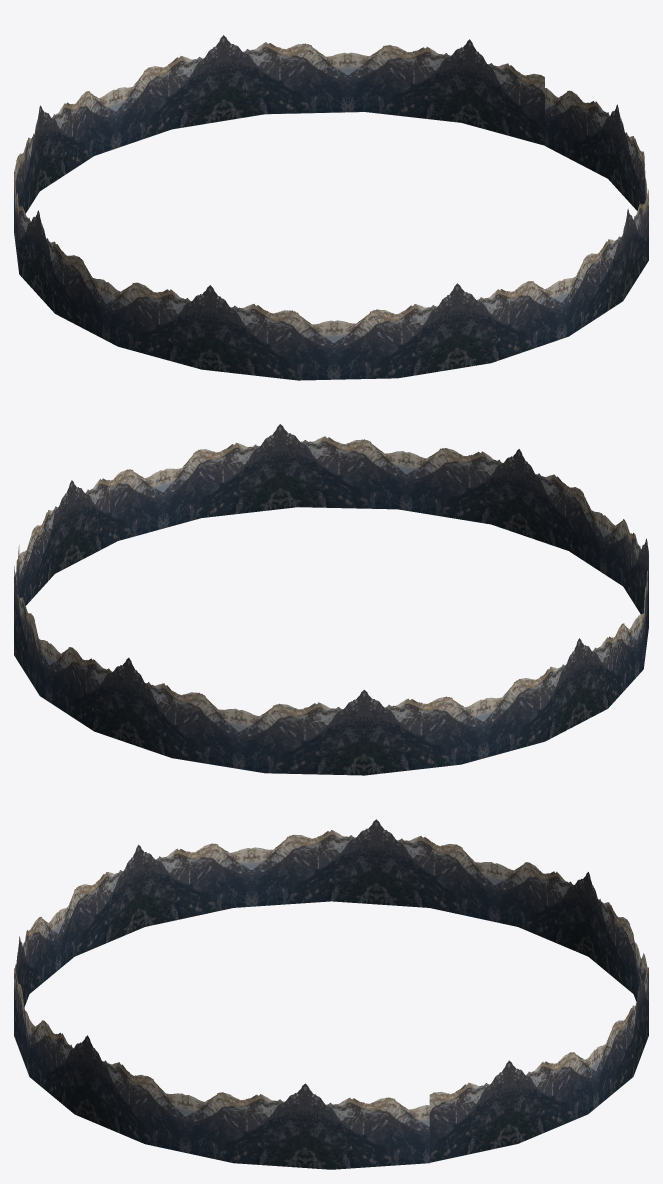
Rendered from Landescape.fbx.
3 renders of one model, top to bottom at view 1: azimuth 30°, elevation 25°; view 2: azimuth 150°, elevation 25°; view 3: azimuth 270°, elevation 25°, orthographic.
Parts seen in each view (by area): view 1: Landescape; view 2: Landescape; view 3: Landescape.
Part boxes in pixels (left/top/right/bottom): Landescape: left=14, top=35, right=648, bottom=380; Landescape: left=14, top=424, right=648, bottom=775; Landescape: left=14, top=819, right=648, bottom=1169.
Bounding box in the file's own units: 162411 × 27438 × 162411.
